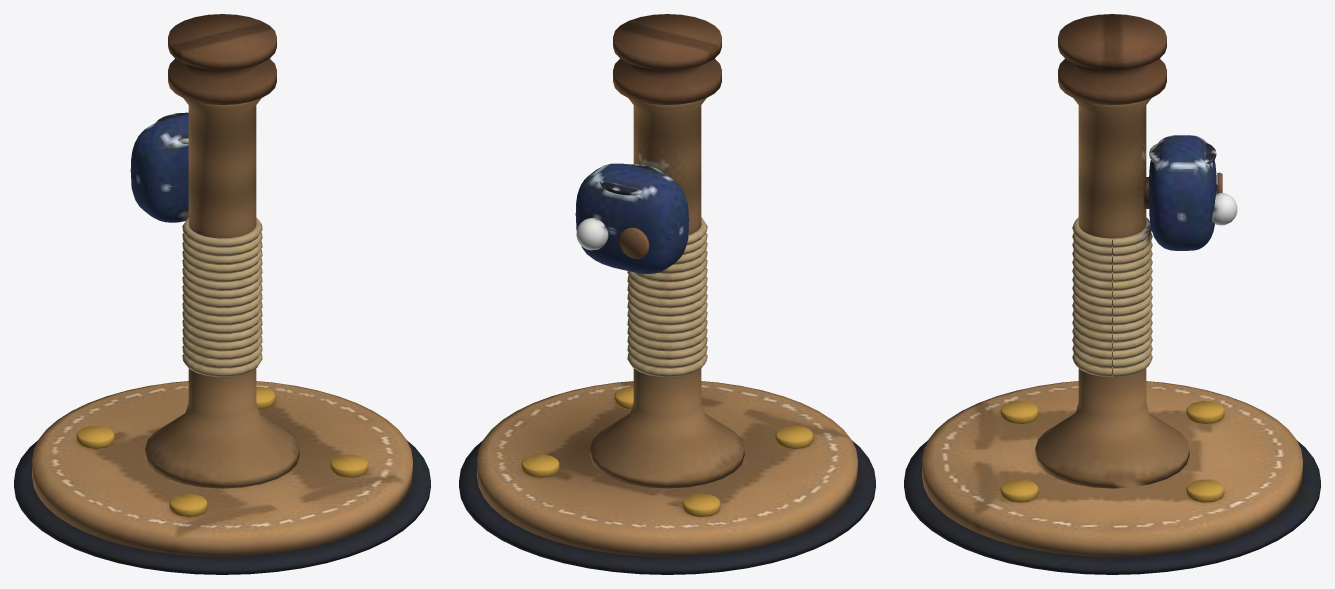
File: binocular_stand.glb
3 views of the same model, side by side, from view 1: azimuth 30°, elevation 25°; view 2: azimuth 150°, elevation 25°; view 3: azimuth 270°, elevation 25° (orthographic).
Visible parts, largest first — view 1: prop_binocular_stand_wood, prop_binocular_stand_felt, prop_binocular_stand_brass; view 2: prop_binocular_stand_wood, prop_binocular_stand_felt, prop_binocular_stand_brass; view 3: prop_binocular_stand_wood, prop_binocular_stand_felt, prop_binocular_stand_brass.
Boxes of the visible parts, left/top/right/bottom form: prop_binocular_stand_wood: left=32, top=14, right=412, bottom=556; prop_binocular_stand_felt: left=14, top=112, right=430, bottom=574; prop_binocular_stand_brass: left=76, top=386, right=368, bottom=517; prop_binocular_stand_wood: left=477, top=14, right=857, bottom=556; prop_binocular_stand_felt: left=459, top=163, right=875, bottom=574; prop_binocular_stand_brass: left=521, top=386, right=813, bottom=517; prop_binocular_stand_wood: left=922, top=14, right=1302, bottom=556; prop_binocular_stand_felt: left=904, top=135, right=1320, bottom=574; prop_binocular_stand_brass: left=1000, top=401, right=1224, bottom=502.
Bounding box in the file's own units: 0.92 × 1.1 × 0.92.
3 materials, 2 textured.
